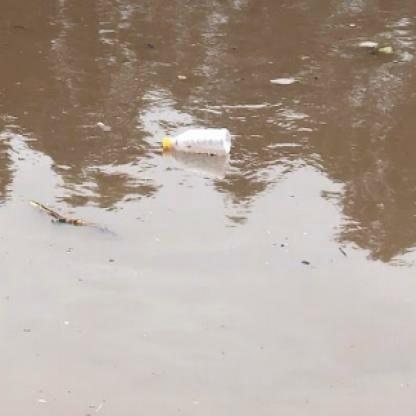Plastic: (161, 124, 233, 162)
